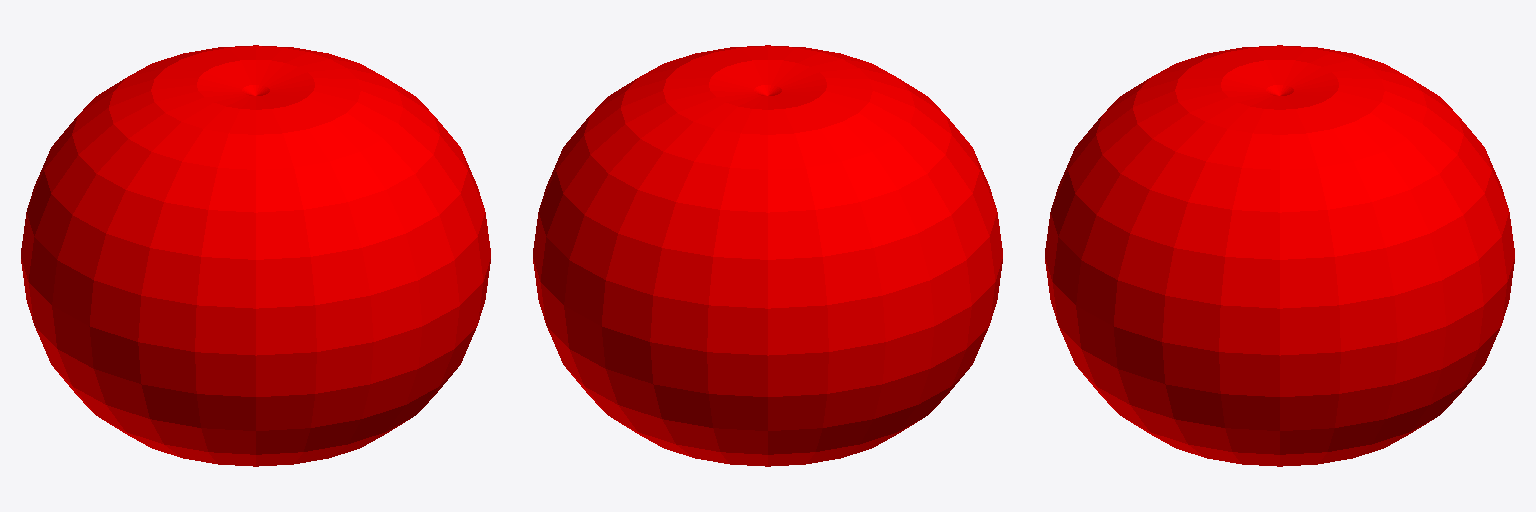
The model's file is manzana.obj.
The picture shows the model from 3 angles: view 1: azimuth 30°, elevation 25°; view 2: azimuth 150°, elevation 25°; view 3: azimuth 270°, elevation 25°; orthographic projection.
Parts seen in each view (by area): view 1: Mesh1 Model; view 2: Mesh1 Model; view 3: Mesh1 Model.
Part boxes in pixels (x1,y1,x2,y2): Mesh1 Model: (21, 45, 490, 466); Mesh1 Model: (533, 45, 1002, 466); Mesh1 Model: (1045, 45, 1514, 466).
Bounding box in the file's own units: 140 × 113 × 140.